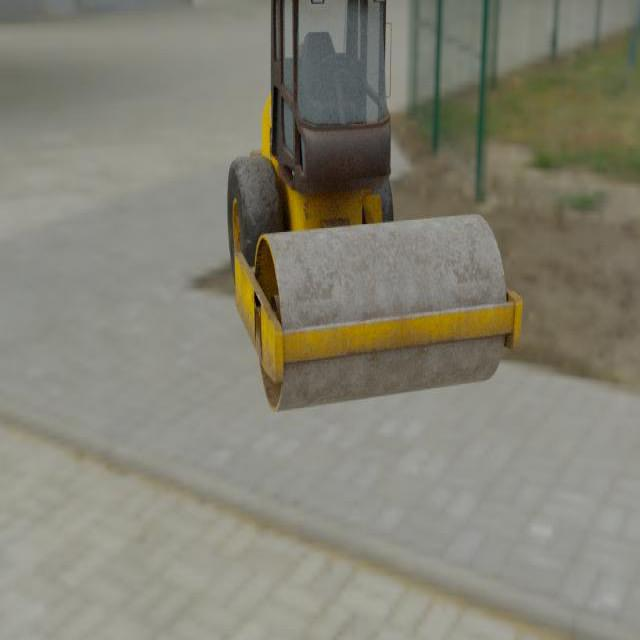Roller: (226, 0, 522, 413)
